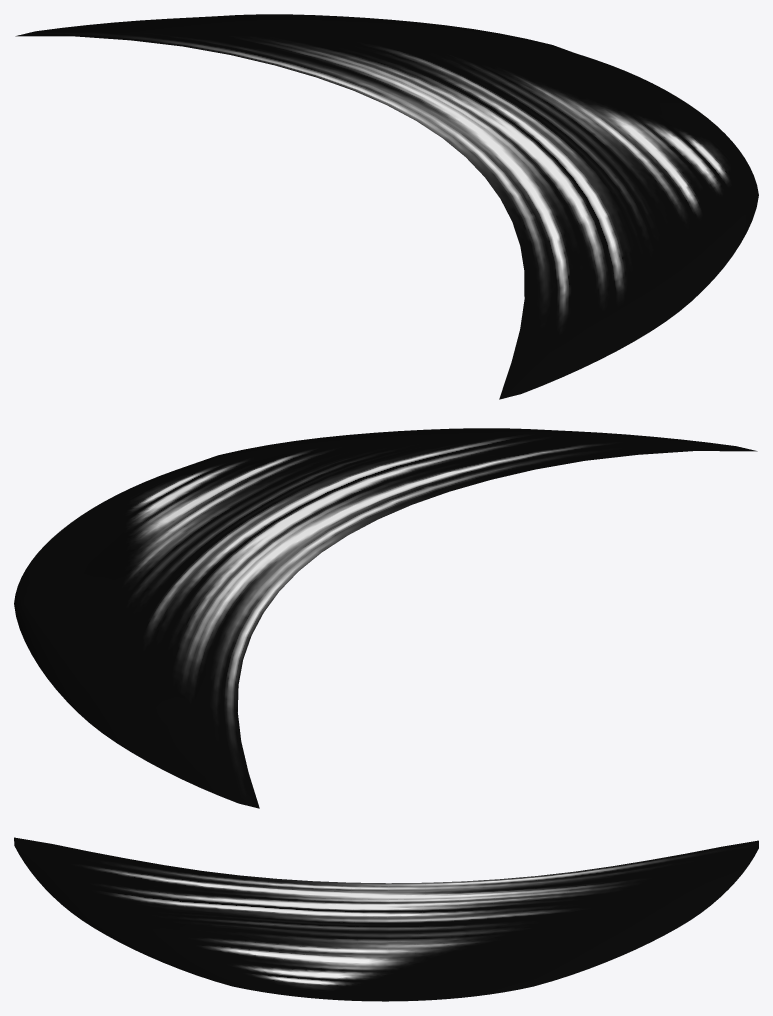
File: 0278_daoguang_M_03.glb
The picture shows the model from 3 angles, top to bottom: view 1: azimuth 30°, elevation 25°; view 2: azimuth 150°, elevation 25°; view 3: azimuth 270°, elevation 25°; orthographic projection. The views are drawn at different scales.
Size of the model in its own units: 1.15 by 0.0811 by 2.2.
1 material, 1 textured.
